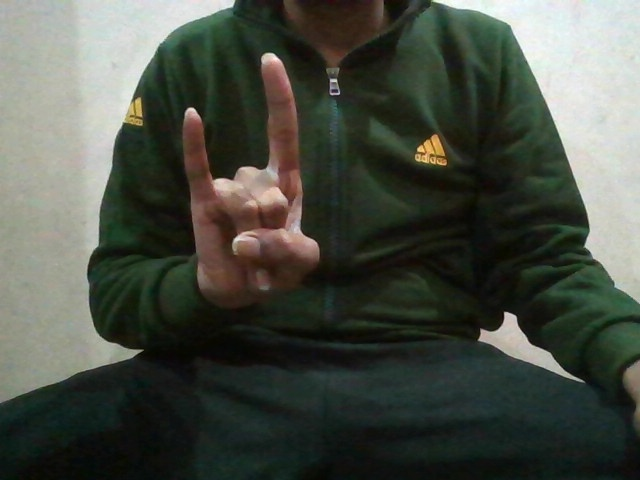U: (158, 59, 334, 293)
